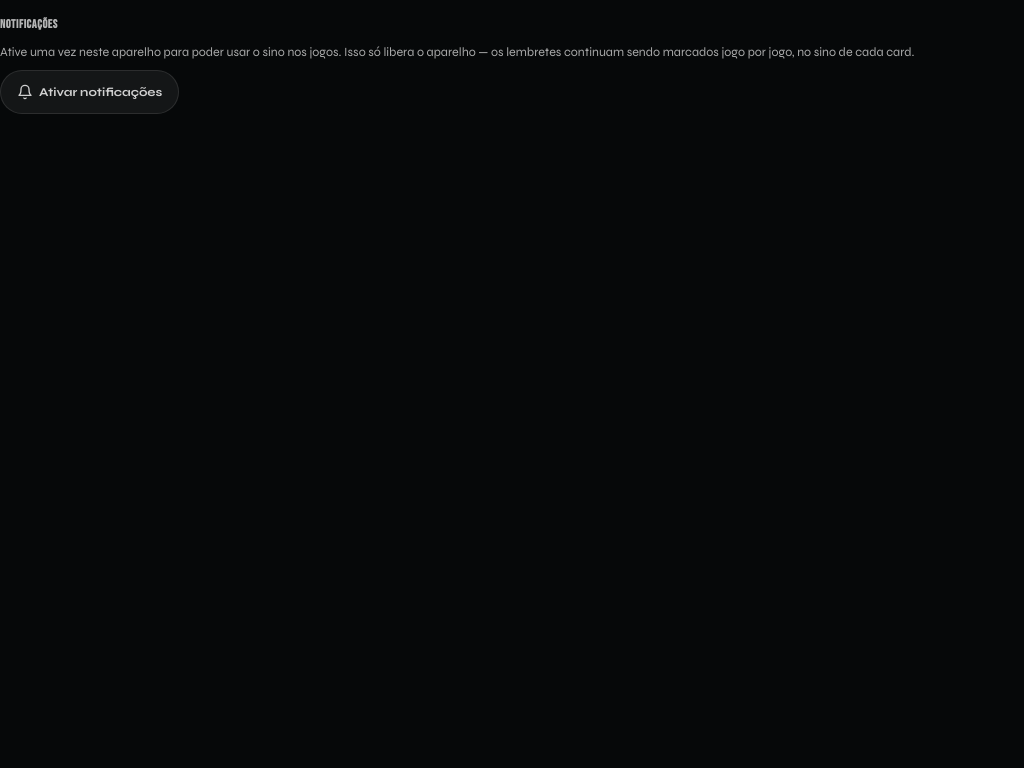
Test: GlobalNotificationToggle — botão global de notificações › permissão default: mostra o aviso antes do pedido e não inscreve ainda
Click the button with aria-label "Ativar notificações neste aparelho". click: (90, 92)
box: [0, 70, 179, 114]
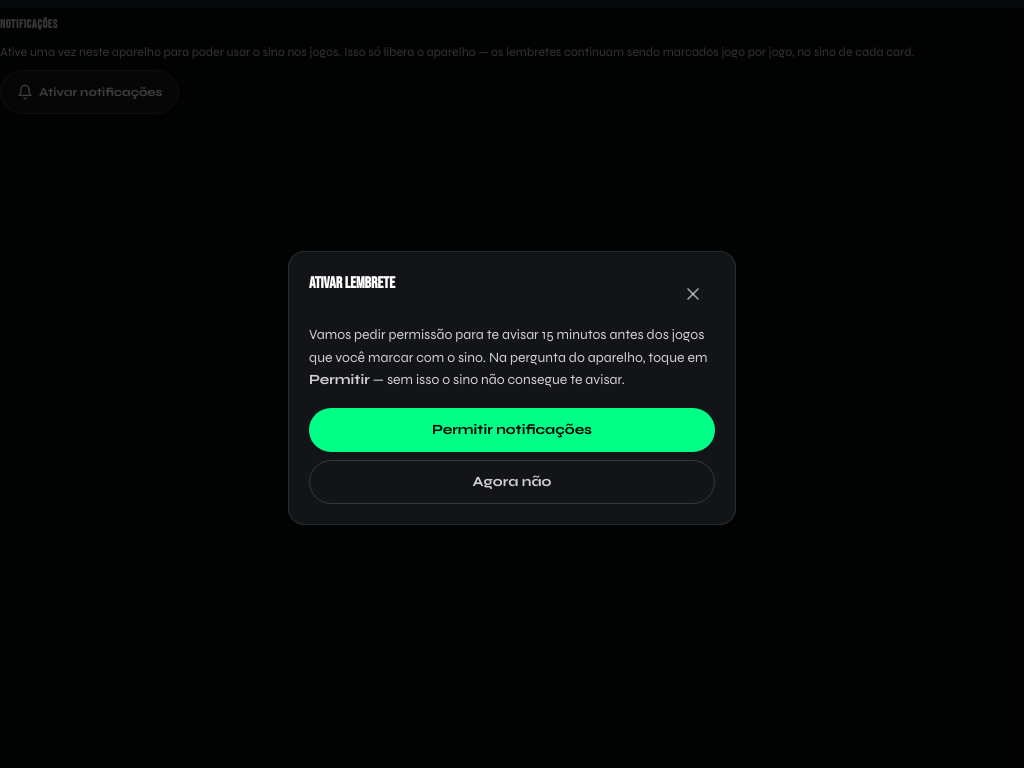
Check: the dialog "Ativar lembrete" is shown
